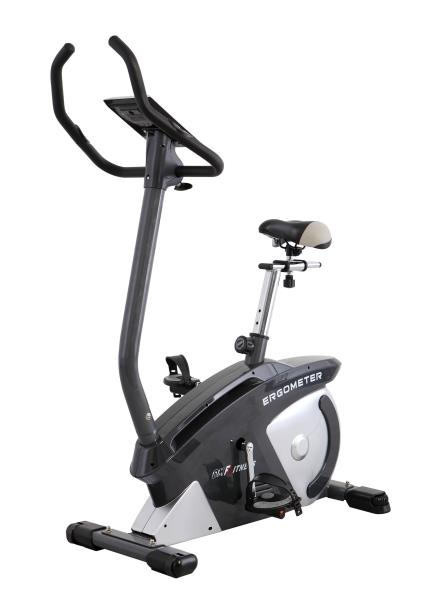gym_bike: (36, 29, 396, 573)
